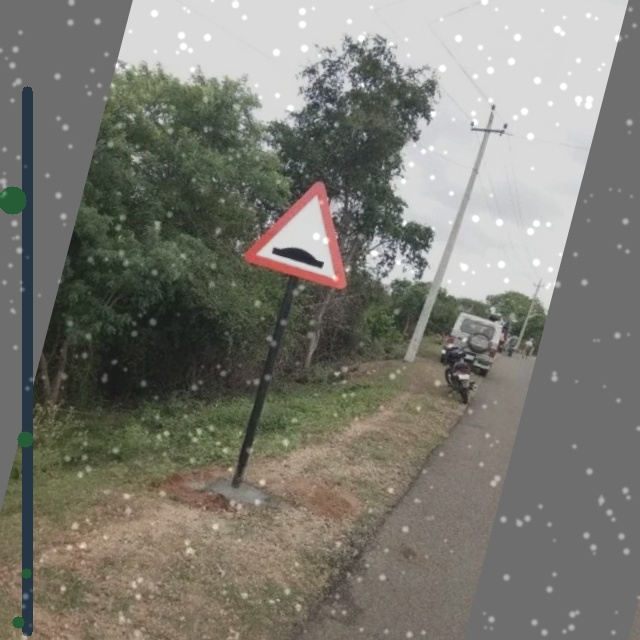Hump_or_Rough_Road: (232, 163, 374, 301)
